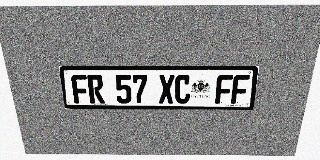5: (115, 75, 132, 104)
7: (131, 75, 148, 104)
C: (174, 75, 191, 104)
F: (231, 75, 250, 104), (215, 75, 233, 104), (71, 75, 89, 103)
R: (87, 75, 105, 103)
X: (159, 75, 174, 104)
